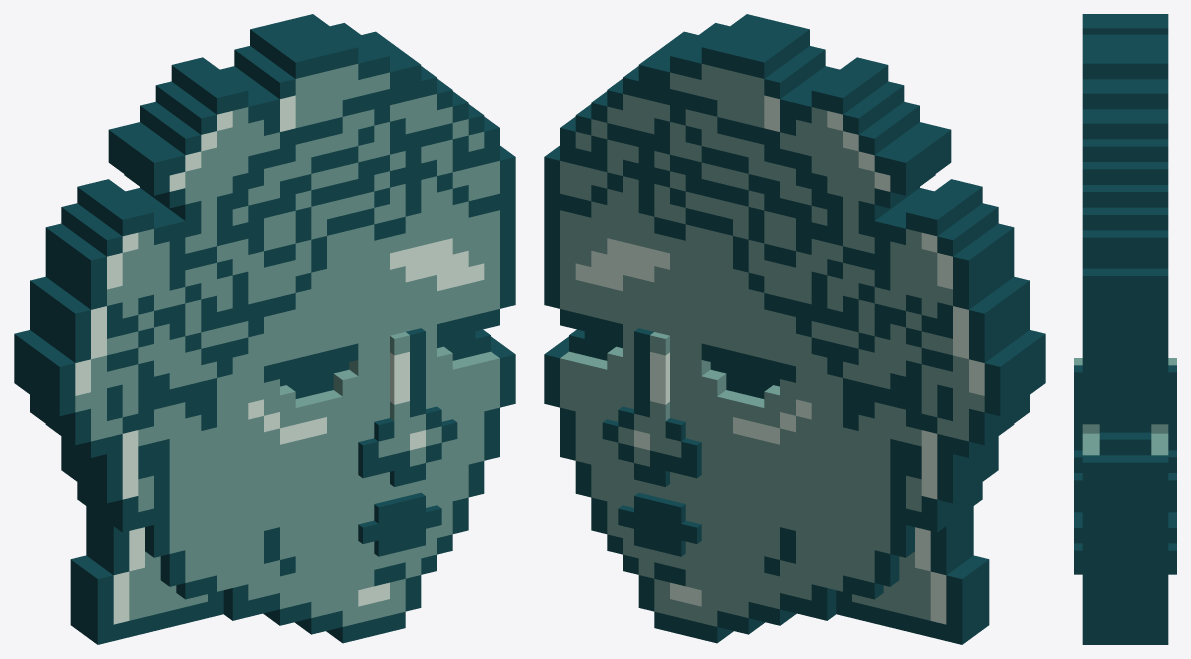
File: HeadOfAWoman.fbx
3 views of the same model, side by side, from view 1: azimuth 30°, elevation 25°; view 2: azimuth 150°, elevation 25°; view 3: azimuth 270°, elevation 25° (orthographic). The views are drawn at different scales.
Visible parts, largest first — view 1: generated; view 2: generated; view 3: generated.
Boxes of the visible parts, x1,y1,x2,y2 form: generated: (14, 14, 515, 644); generated: (544, 14, 1045, 644); generated: (1074, 14, 1176, 644).
Size of the model in its own units: 29 by 36 by 6.
